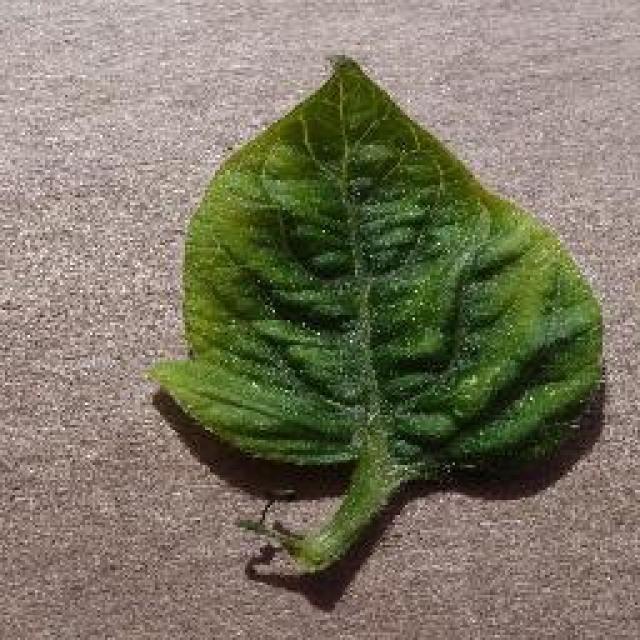Tomato yellow virus leaf: (151, 50, 609, 500)
